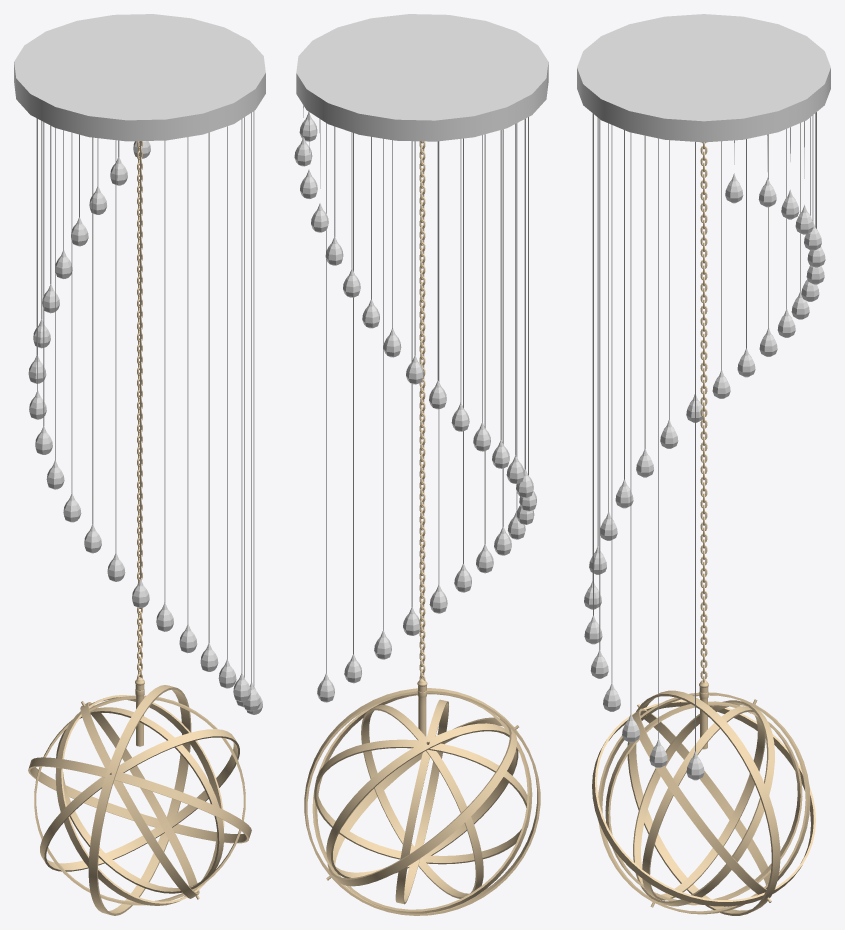
The model's file is Chandelier.fbx.
The picture shows the model from 3 angles, left to right: view 1: azimuth 30°, elevation 25°; view 2: azimuth 150°, elevation 25°; view 3: azimuth 270°, elevation 25°; orthographic projection.
Visible parts, largest first — view 1: CeilingFasten, STRINGS, GemMash2_ReproMesh, Sweep1, Sweep2, Sweep3, Sweep4, CSweep1, CSweep3, ChainMash3, CSweep2; view 2: CeilingFasten, STRINGS, GemMash2_ReproMesh, Sweep2, CSweep1, CSweep2, Sweep4, Sweep1, ChainMash3, CSweep3, Sweep3; view 3: CeilingFasten, STRINGS, GemMash2_ReproMesh, Sweep1, CSweep1, Sweep3, CSweep2, Sweep2, ChainMash3, Sweep4, CSweep3.
Boxes of the visible parts, box(x1,y1,x2,y2) form: CeilingFasten: box(14, 14, 265, 141); STRINGS: box(36, 111, 254, 685); GemMash2_ReproMesh: box(28, 141, 262, 714); Sweep1: box(88, 685, 191, 915); Sweep2: box(28, 757, 251, 843); Sweep3: box(40, 729, 239, 871); Sweep4: box(80, 702, 199, 898); CSweep1: box(55, 695, 224, 905); CSweep3: box(56, 707, 224, 893); ChainMash3: box(137, 141, 142, 679); CSweep2: box(34, 695, 245, 905); CeilingFasten: box(296, 14, 548, 141); STRINGS: box(303, 105, 528, 673); GemMash2_ReproMesh: box(294, 112, 536, 702); Sweep2: box(327, 717, 516, 886); CSweep1: box(314, 739, 528, 864); CSweep2: box(361, 704, 483, 898); Sweep4: box(326, 723, 518, 878); Sweep1: box(304, 688, 540, 915); ChainMash3: box(419, 141, 425, 680); CSweep3: box(395, 699, 448, 904); Sweep3: box(312, 693, 532, 913); CeilingFasten: box(577, 14, 830, 142); STRINGS: box(592, 112, 816, 751); GemMash2_ReproMesh: box(584, 173, 825, 780); Sweep1: box(627, 690, 780, 915); CSweep1: box(633, 700, 774, 906); Sweep3: box(632, 708, 770, 894); CSweep2: box(642, 706, 765, 900); Sweep2: box(592, 700, 815, 906); ChainMash3: box(700, 142, 707, 682); Sweep4: box(598, 692, 810, 914); CSweep3: box(605, 701, 802, 905).
Size of the model in its own units: 5.45 by 19.96 by 5.45.
